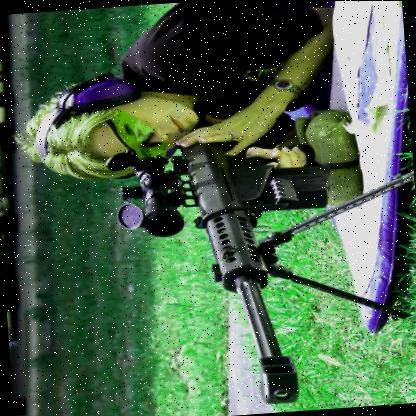rifle: (101, 103, 396, 410)
